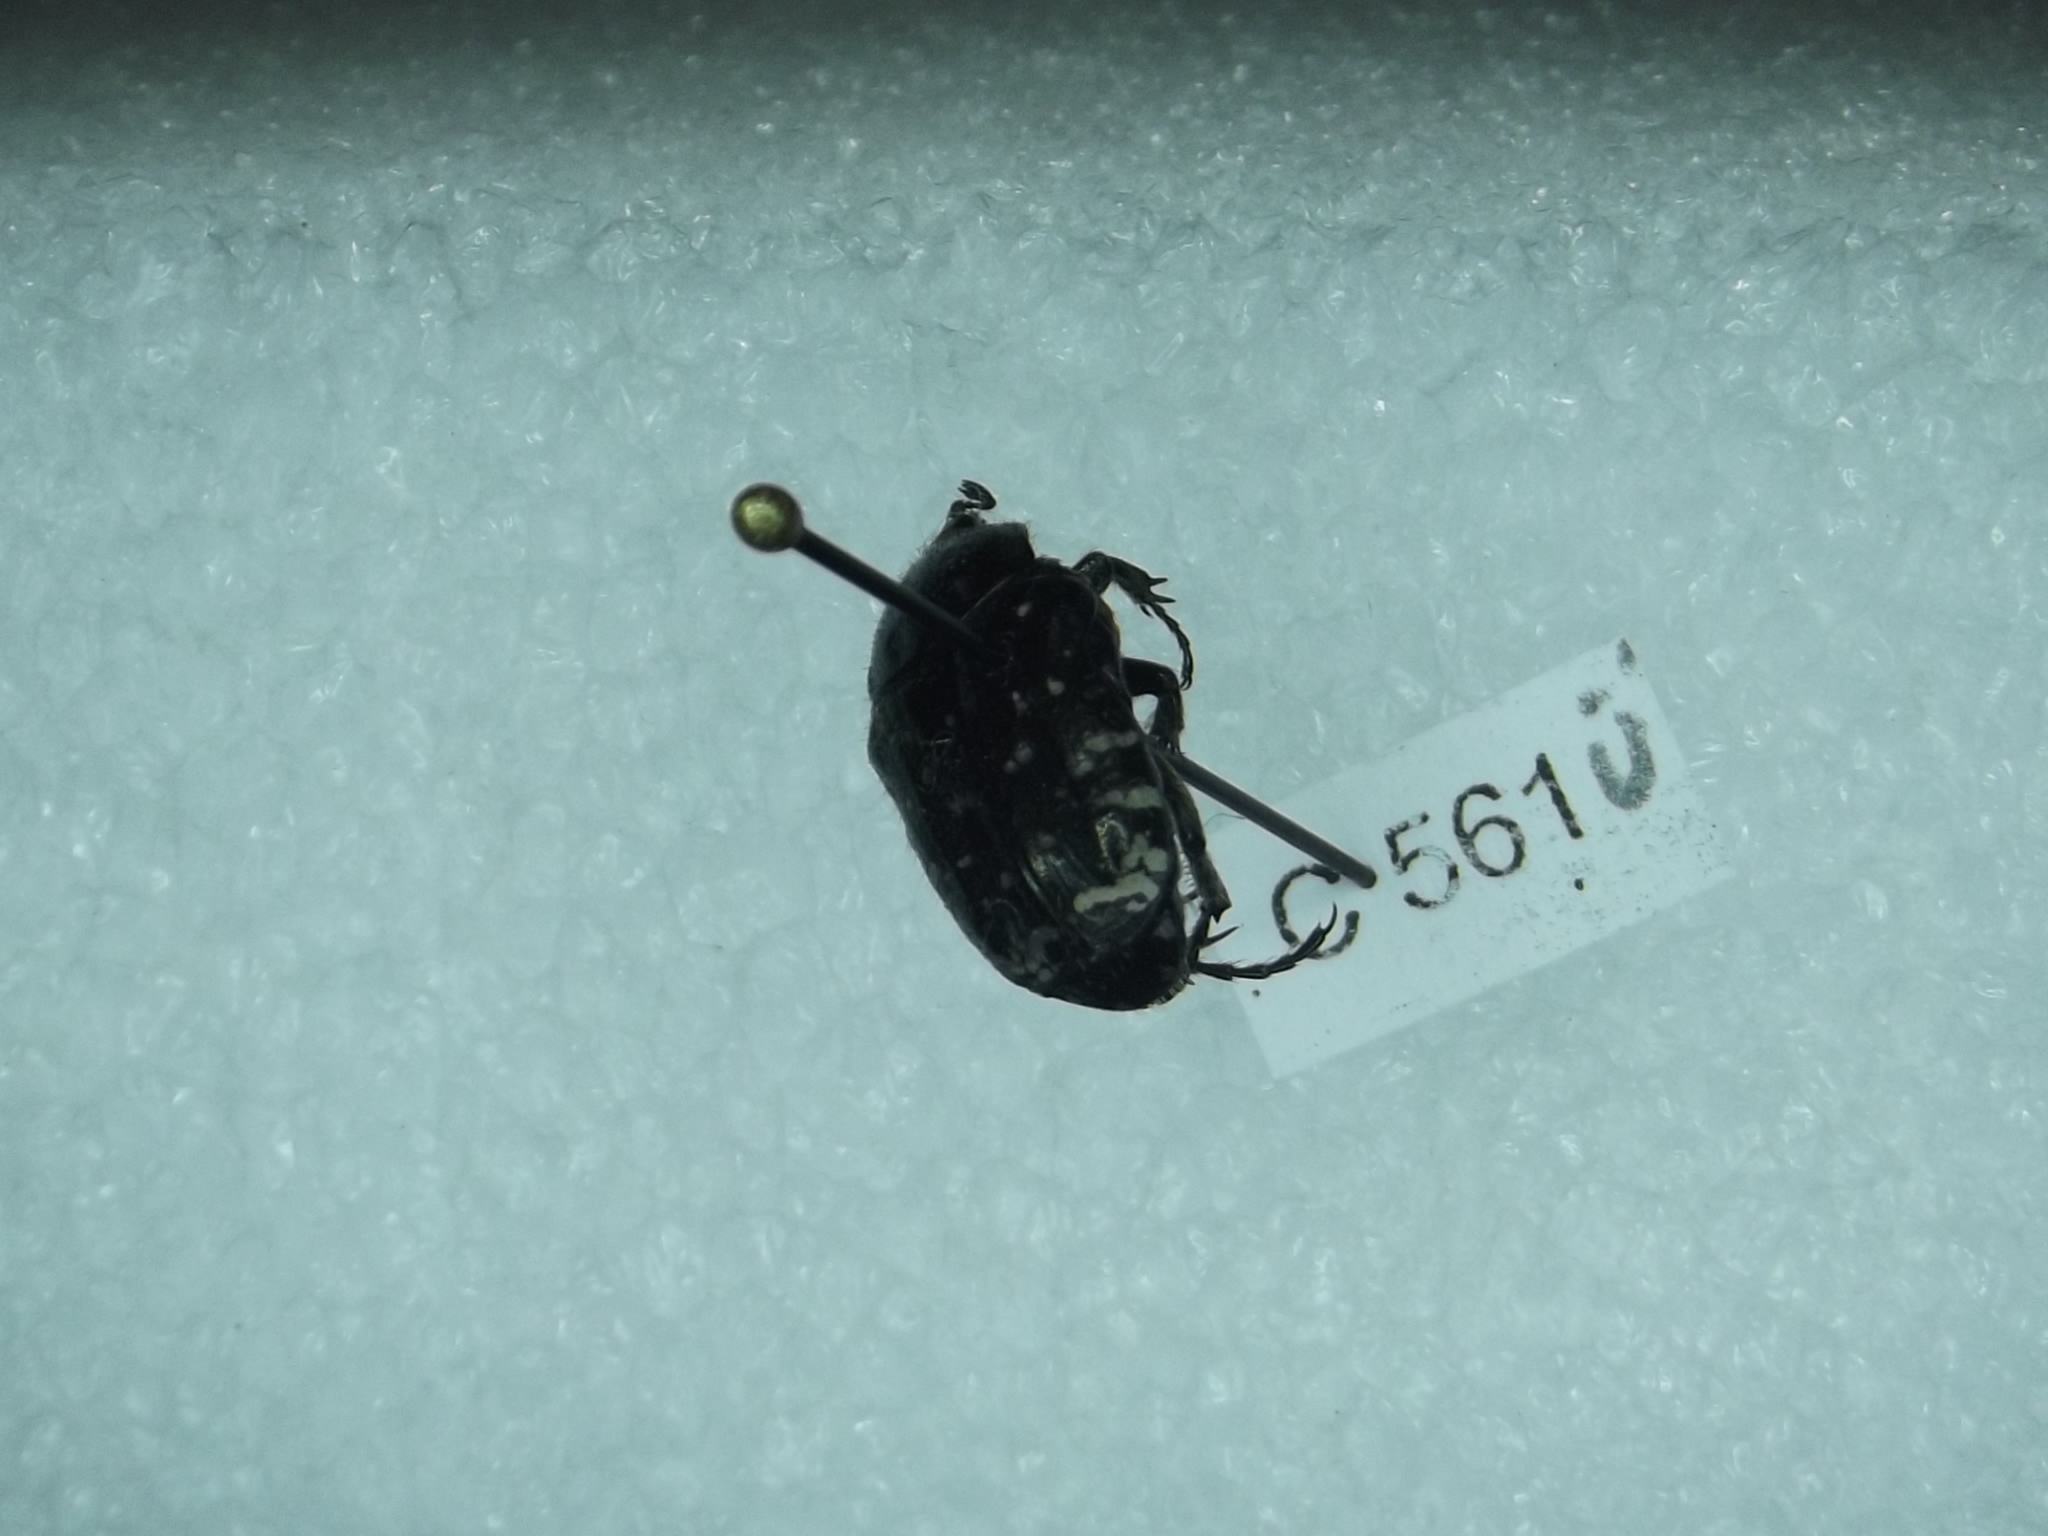Oxythyrea_albopicta: (830, 482, 1263, 1046)
